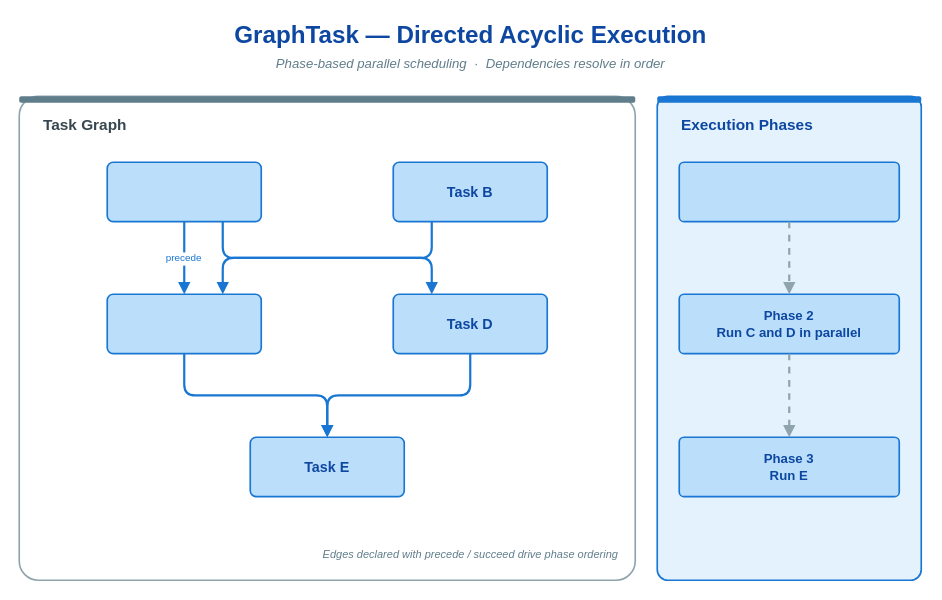
Image size: 942x600. Some labels were removed from this diagram. The box of each missing label's shape, as (x1, y1, x2, y2) in pixels:
Phase 1 Run A and B in parallel: (678, 161, 900, 222)
Task A: (106, 161, 262, 222)
Task C: (106, 293, 262, 354)
